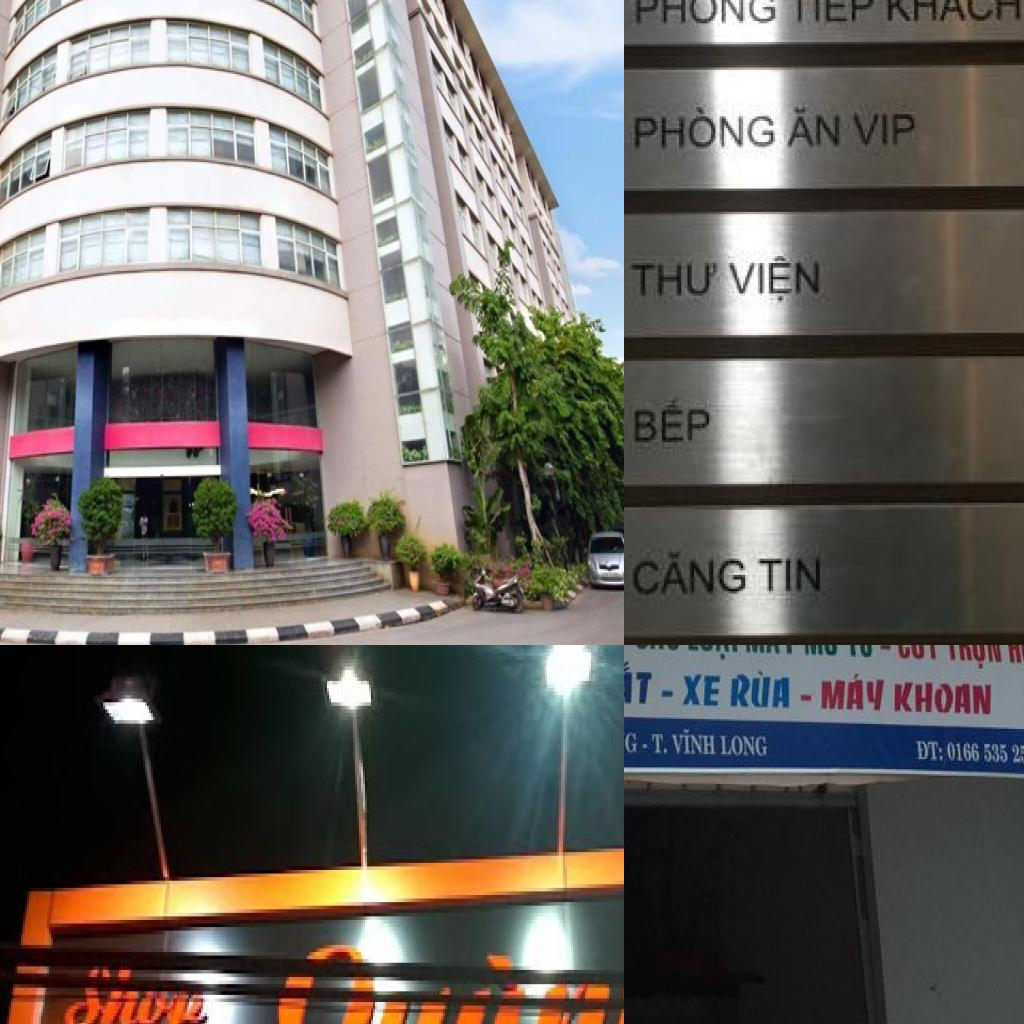text: (267, 909, 624, 1024), (63, 959, 217, 1024), (626, 102, 780, 158), (624, 544, 753, 602), (724, 249, 824, 307), (629, 0, 781, 32), (625, 254, 724, 302), (882, 0, 1024, 32), (630, 396, 717, 447), (891, 680, 994, 719), (818, 669, 889, 717), (784, 102, 846, 156), (848, 107, 923, 151), (728, 669, 793, 717), (784, 0, 880, 32), (669, 724, 719, 766), (679, 669, 724, 712), (624, 658, 658, 712), (720, 732, 770, 766), (941, 645, 1001, 673), (910, 736, 946, 766), (892, 645, 940, 665), (741, 645, 799, 660), (685, 645, 739, 660), (649, 729, 672, 762), (843, 645, 877, 662), (800, 645, 838, 660), (1004, 645, 1024, 672), (624, 725, 641, 755)
